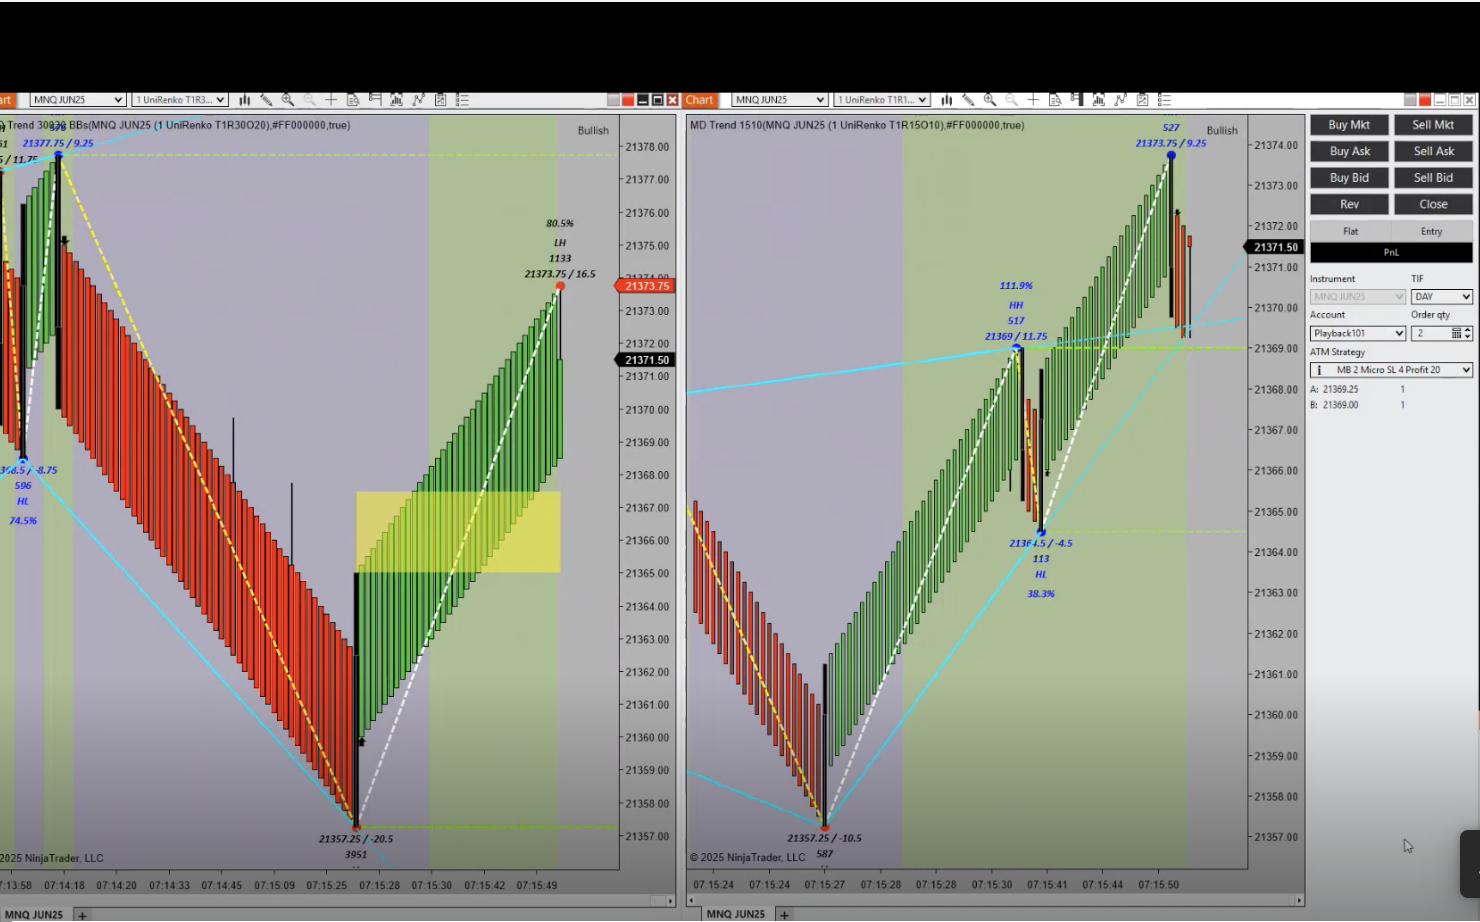candle: (53, 156, 65, 416), (19, 208, 28, 465), (1035, 366, 1048, 533), (1167, 153, 1178, 322), (820, 665, 831, 832), (1016, 345, 1028, 508), (355, 578, 360, 833)
